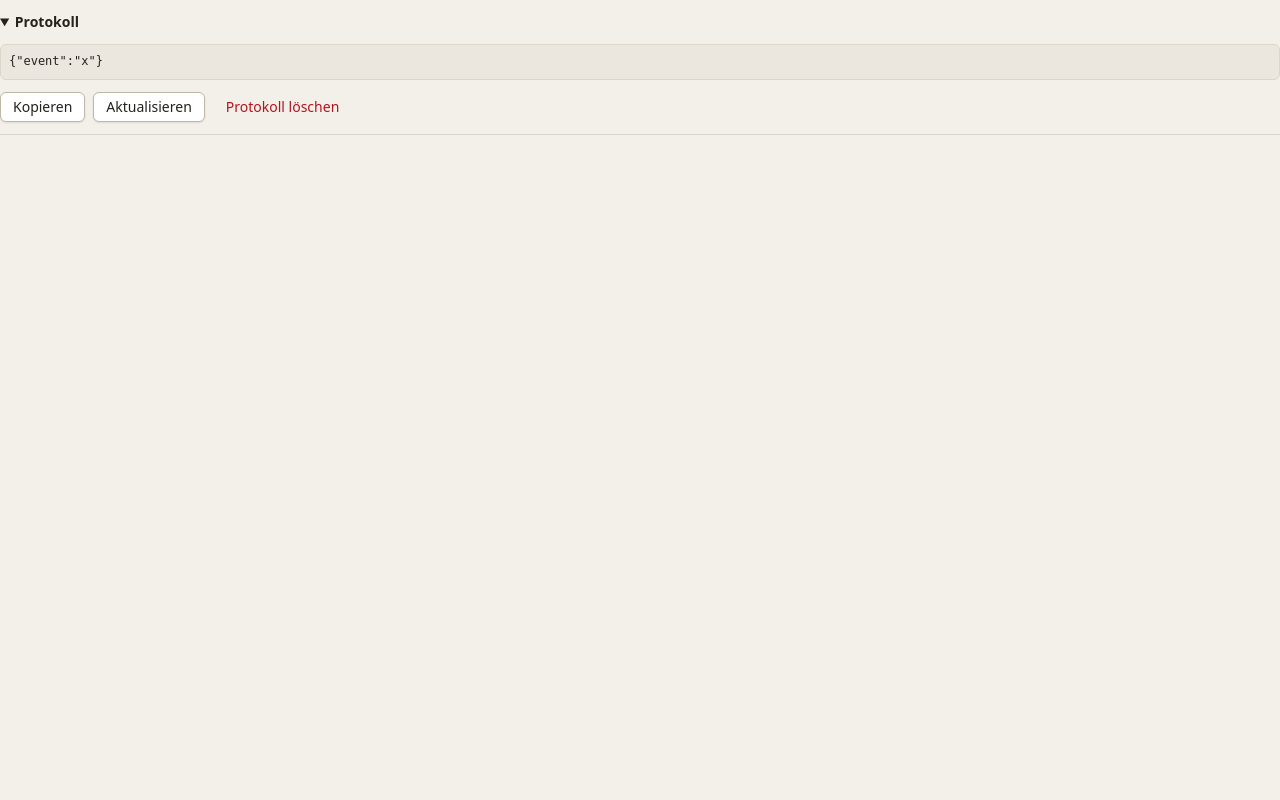
Test: DiagnosticsLog › deletes the log only after a confirmation
Click the button "Protokoll löschen". click: (283, 107)
box: [213,92,352,122]
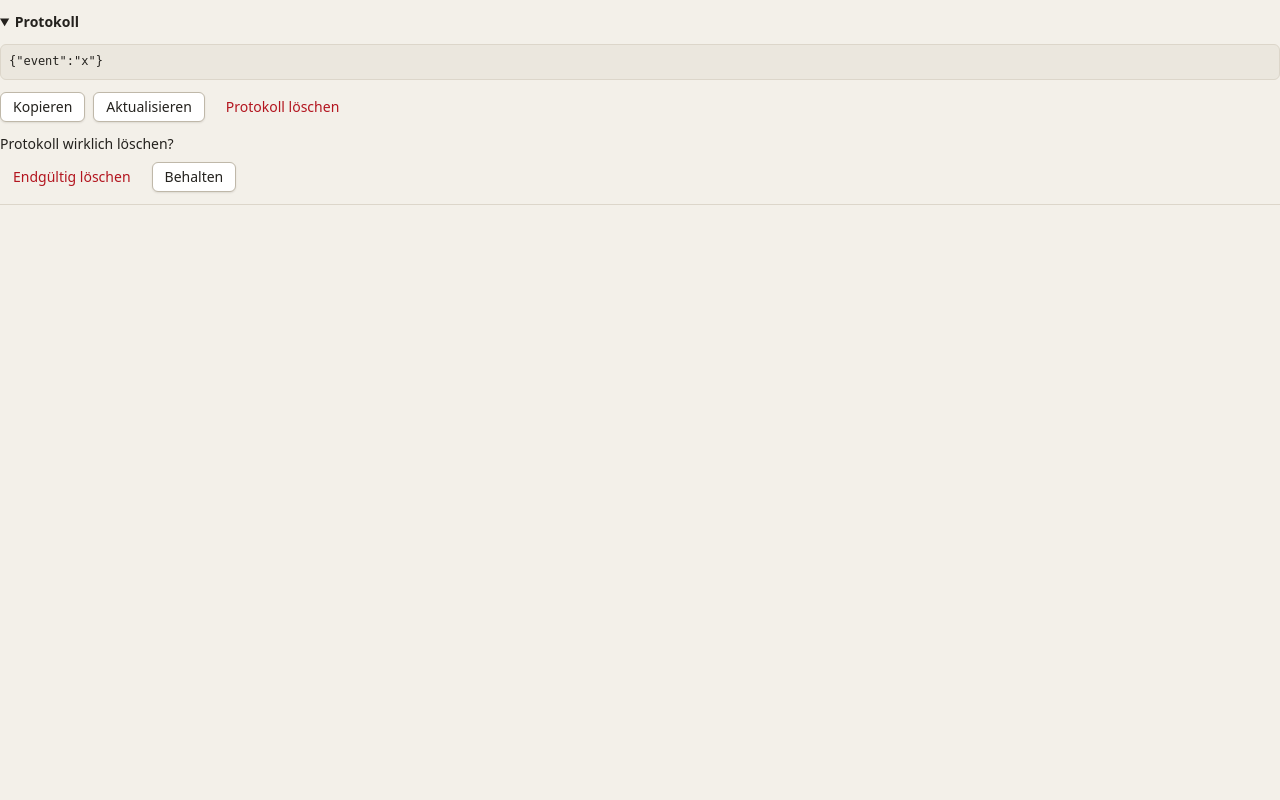
Check: the text "wirklich löschen" is shown, box [0,134,174,153]
Click the button "Behalten". click: (194, 177)
box: [152,162,236,192]
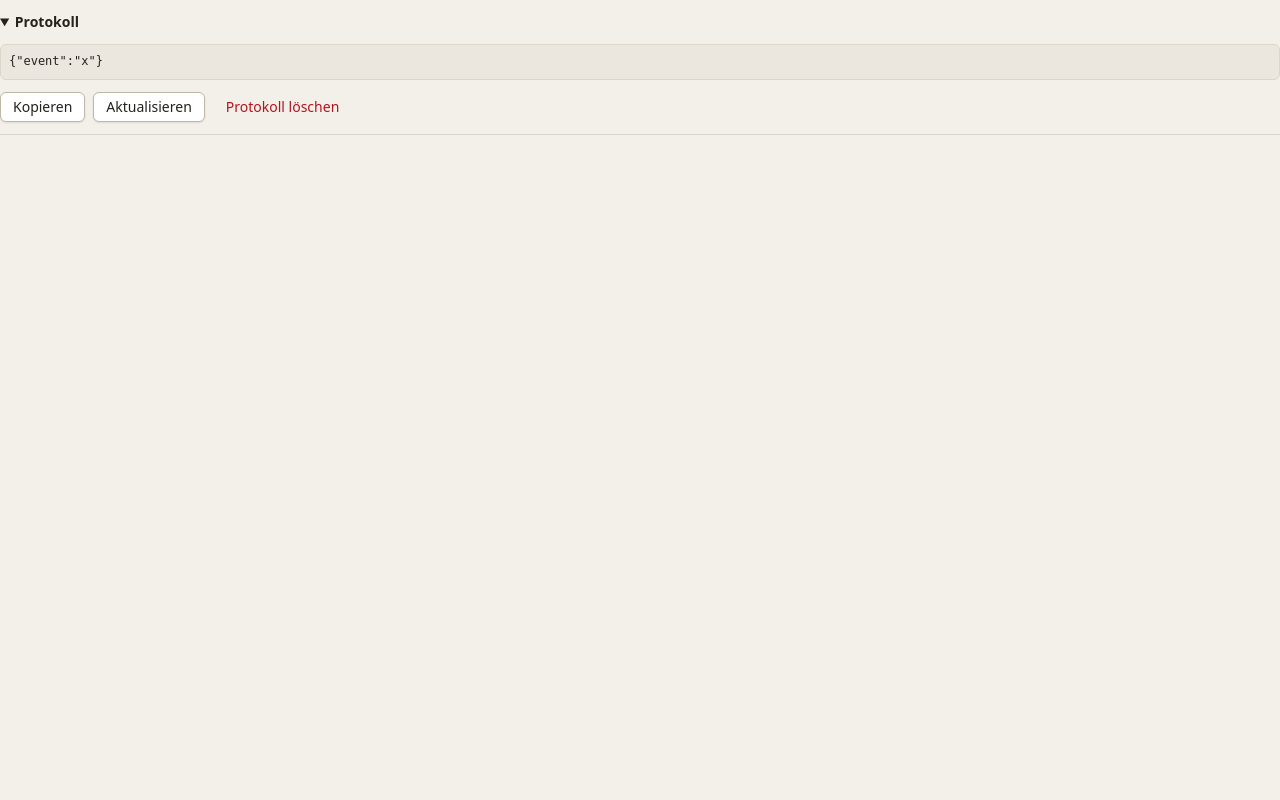
Click the button "Protokoll löschen". click: (283, 107)
box: [213,92,352,122]
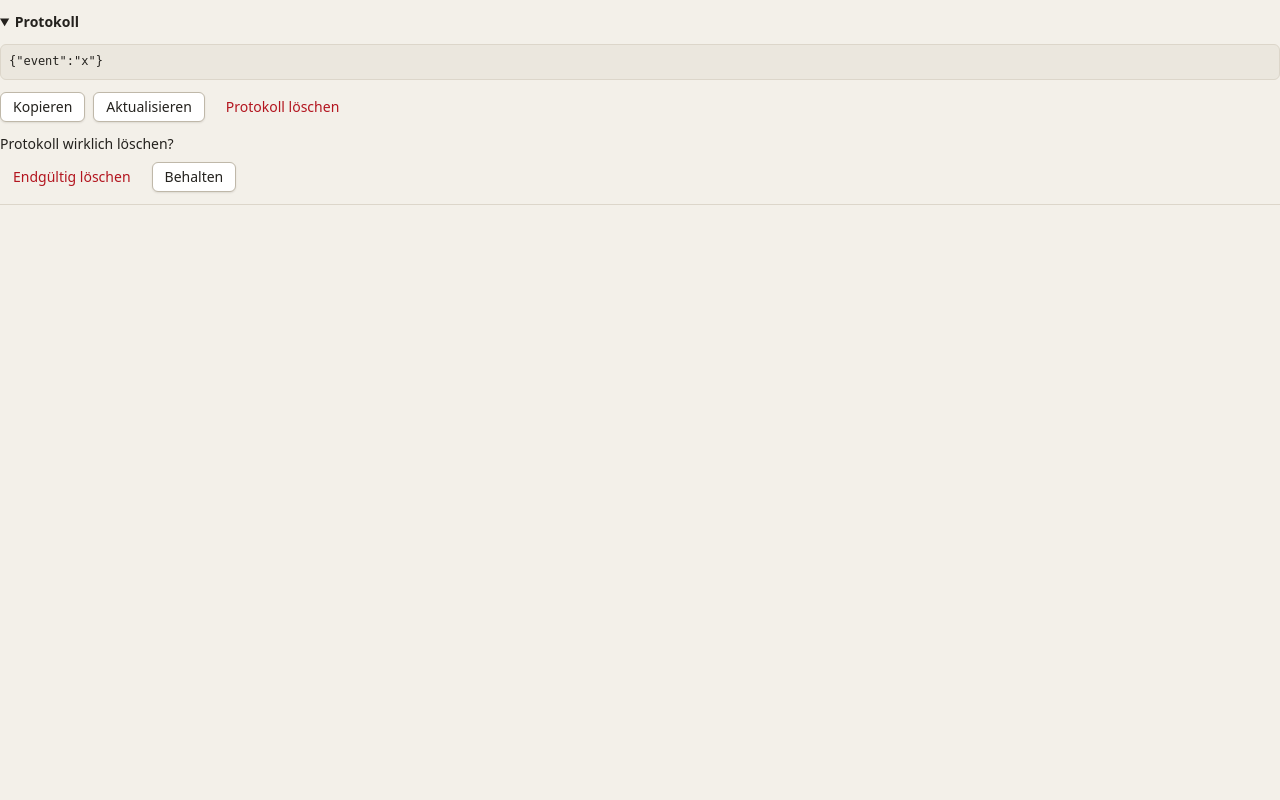
Click the button "Endgültig löschen". click: (72, 177)
box: [0,162,144,192]
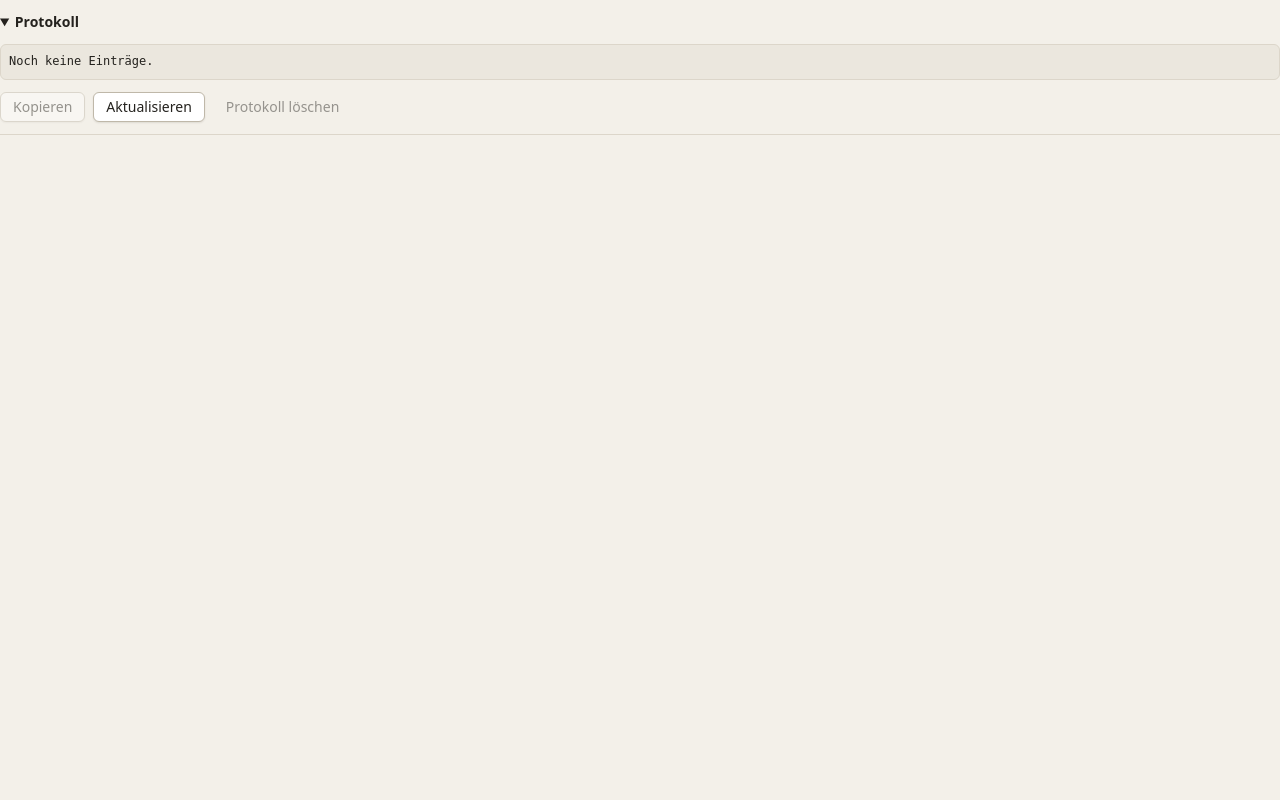
Check: the text "Noch keine Einträge" is shown, box [9,54,154,68]
